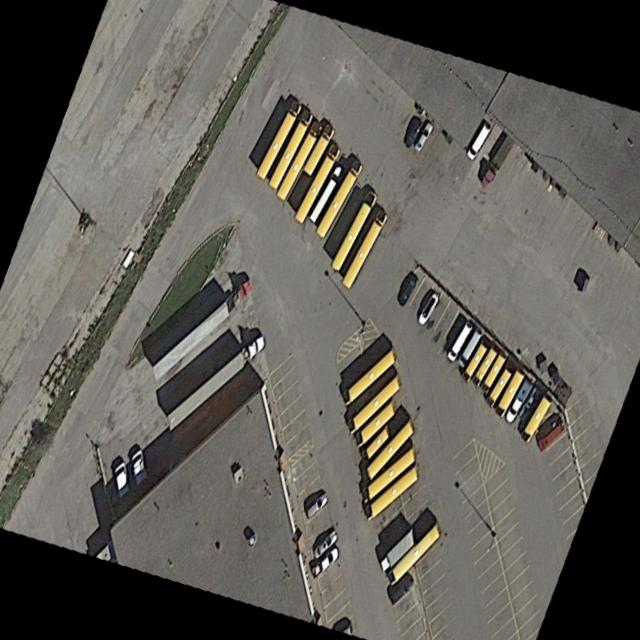large-vehicle: (151, 278, 250, 380), (165, 334, 262, 431), (329, 191, 377, 272), (313, 160, 362, 239), (292, 144, 340, 224), (340, 210, 387, 290), (254, 100, 300, 181), (274, 122, 321, 201), (267, 110, 312, 190), (478, 116, 524, 191), (386, 521, 438, 586), (362, 420, 413, 483), (341, 349, 394, 407), (347, 376, 399, 435), (361, 447, 413, 504), (365, 466, 416, 522), (306, 163, 344, 225), (355, 402, 393, 448), (518, 394, 552, 445), (301, 124, 334, 176), (377, 527, 413, 574), (491, 368, 523, 419), (477, 351, 505, 394), (460, 339, 486, 384), (483, 368, 511, 409), (470, 345, 496, 389)
small-vehicle: (502, 379, 532, 424), (462, 120, 492, 164), (443, 319, 472, 362), (455, 326, 482, 370), (308, 544, 339, 582), (415, 288, 441, 328), (311, 526, 337, 561), (537, 419, 563, 452), (388, 572, 412, 607), (396, 272, 419, 308), (128, 446, 146, 487), (112, 459, 129, 502), (304, 490, 328, 520), (412, 120, 433, 154), (401, 119, 422, 152)
